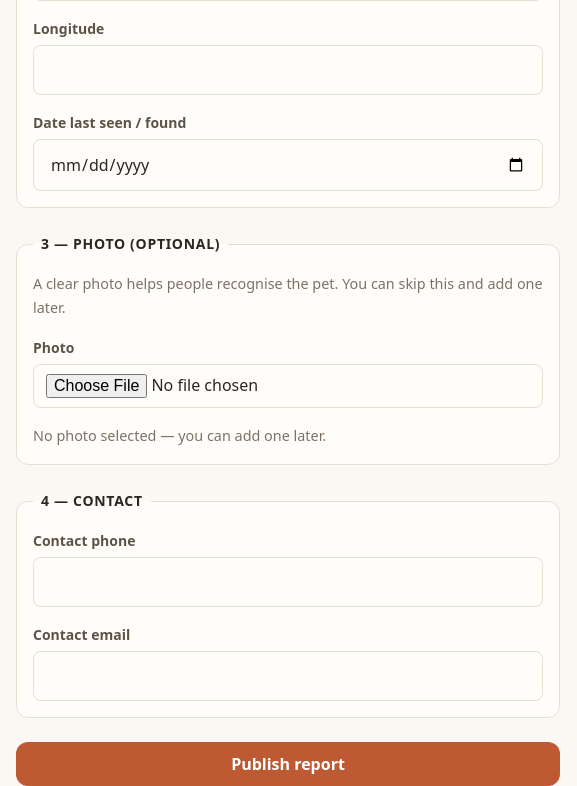
CreateReportPage › shows inline validation errors and does not submit an invalid form
The image size is (577, 786).
(page scrolled)
Click the button "Publish report". click: (288, 764)
box: left=16, top=742, right=560, bottom=785
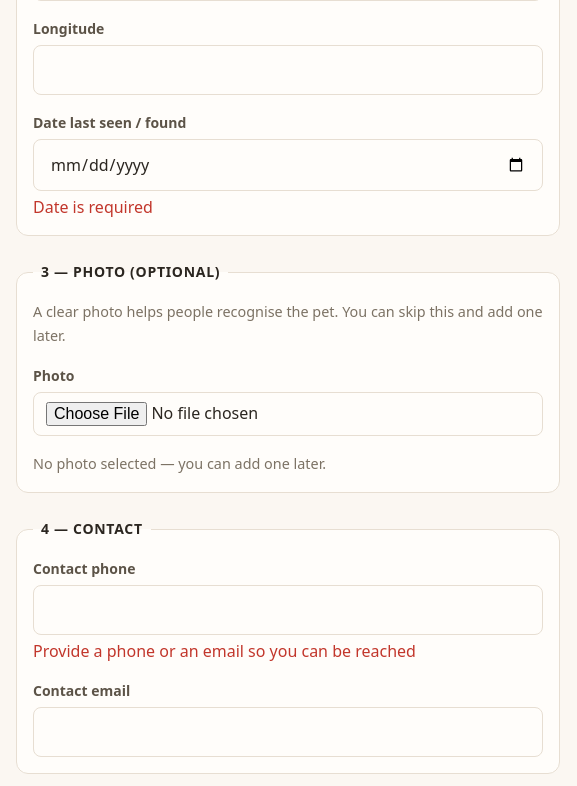
Result: the message "Date is required" is shown at left=33, top=196, right=153, bottom=218
Result: the text "Provide a phone or an email so you can be reached" is shown at left=33, top=640, right=416, bottom=662
